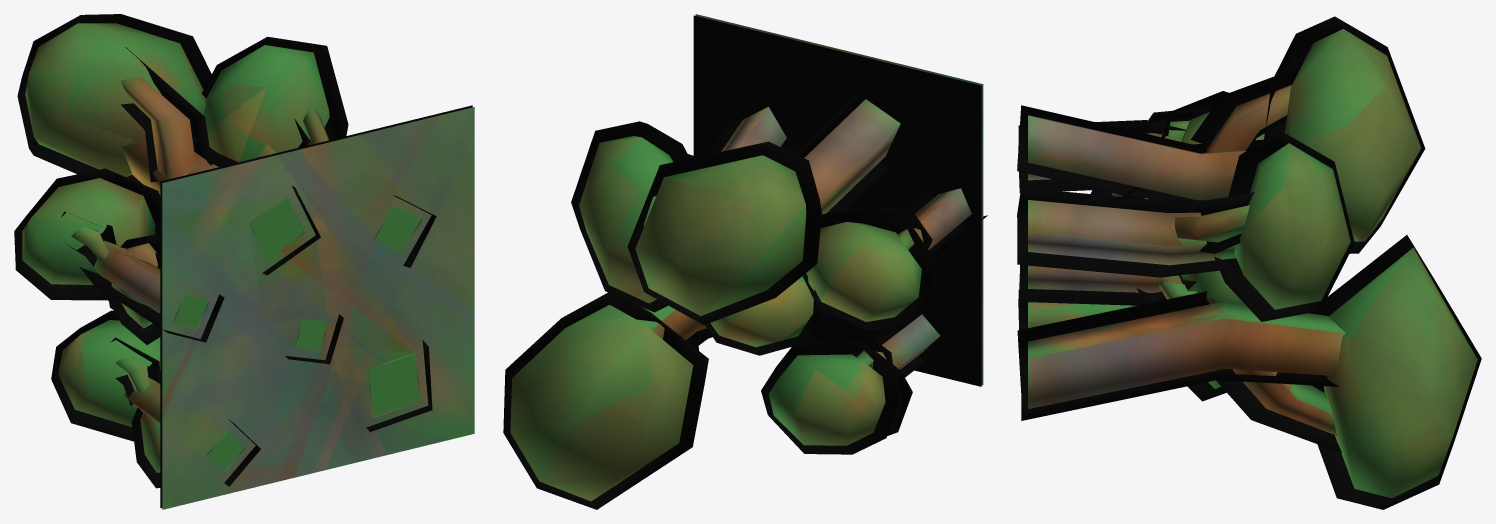
File: Trees.fbx
3 views of the same model, side by side, from view 1: azimuth 30°, elevation 25°; view 2: azimuth 150°, elevation 25°; view 3: azimuth 270°, elevation 25° (orthographic). The views are drawn at different scales.
Parts seen in each view (by area): view 1: Building.008; view 2: Building.008; view 3: Building.008.
Part boxes in pixels (x1,y1,x2,y2): Building.008: (14, 14, 474, 509); Building.008: (503, 14, 987, 509); Building.008: (1017, 16, 1481, 509).
Bounding box in the file's own units: 121 × 129 × 133.
